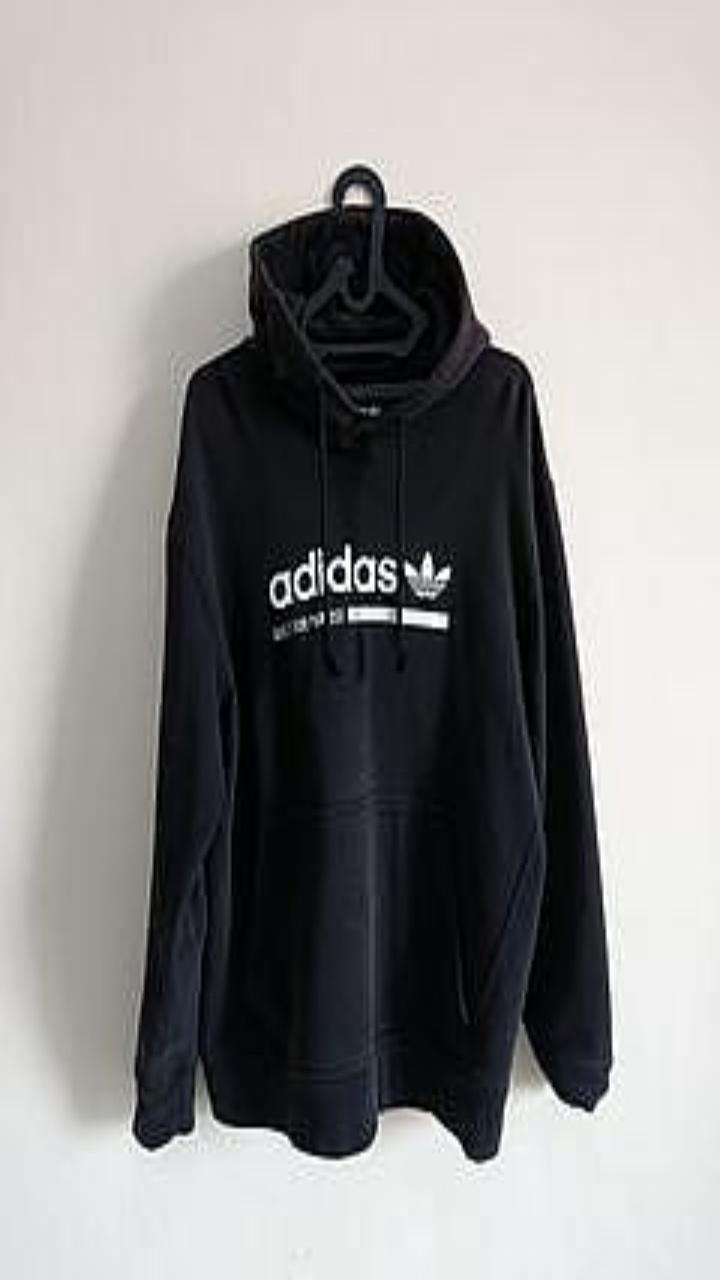Hoodie: (133, 207, 611, 1159)
